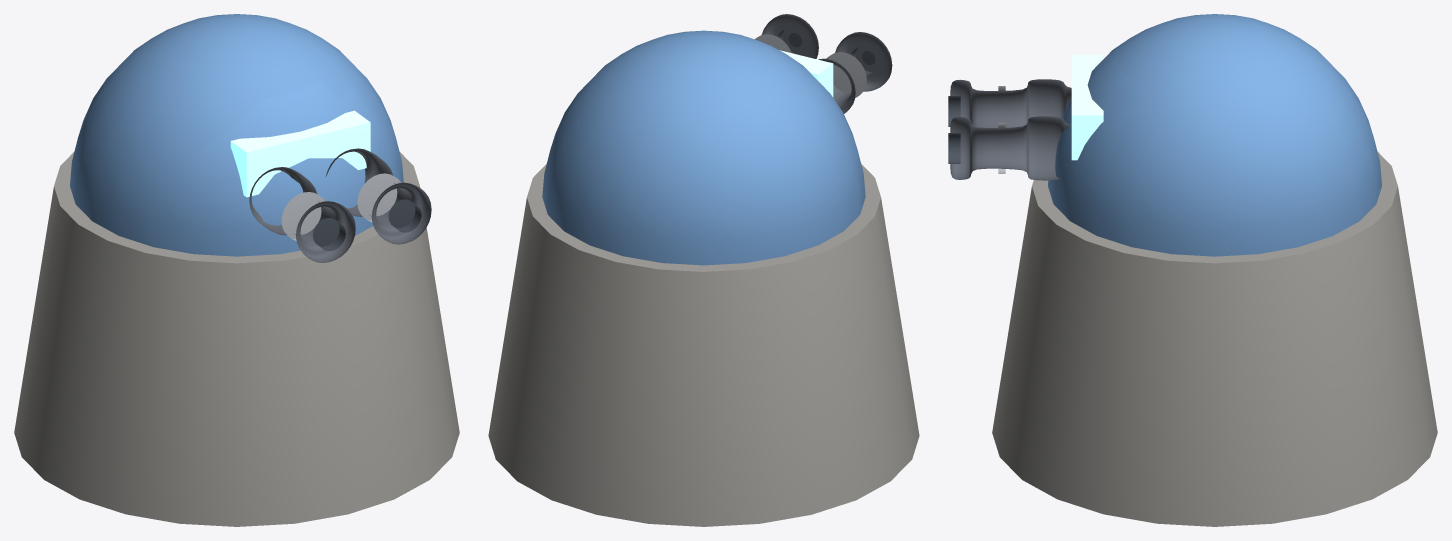
The model's file is gapill.glb.
The picture shows the model from 3 angles, left to right: view 1: azimuth 30°, elevation 25°; view 2: azimuth 150°, elevation 25°; view 3: azimuth 270°, elevation 25°; orthographic projection. The views are drawn at different scales.
Parts seen in each view (by area): view 1: Hull, Turret, Barrel; view 2: Hull, Turret, Barrel; view 3: Hull, Turret, Barrel.
Part boxes in pixels (left/top/right/bottom): Hull: left=14, top=187, right=459, bottom=526; Turret: left=54, top=14, right=419, bottom=260; Barrel: left=190, top=80, right=431, bottom=263; Hull: left=488, top=198, right=919, bottom=526; Turret: left=527, top=30, right=880, bottom=271; Barrel: left=755, top=14, right=892, bottom=178; Hull: left=992, top=187, right=1437, bottom=526; Turret: left=1070, top=14, right=1397, bottom=263; Barrel: left=948, top=48, right=1131, bottom=240.
Size of the model in its own units: 1.01 by 1.01 by 1.11.
